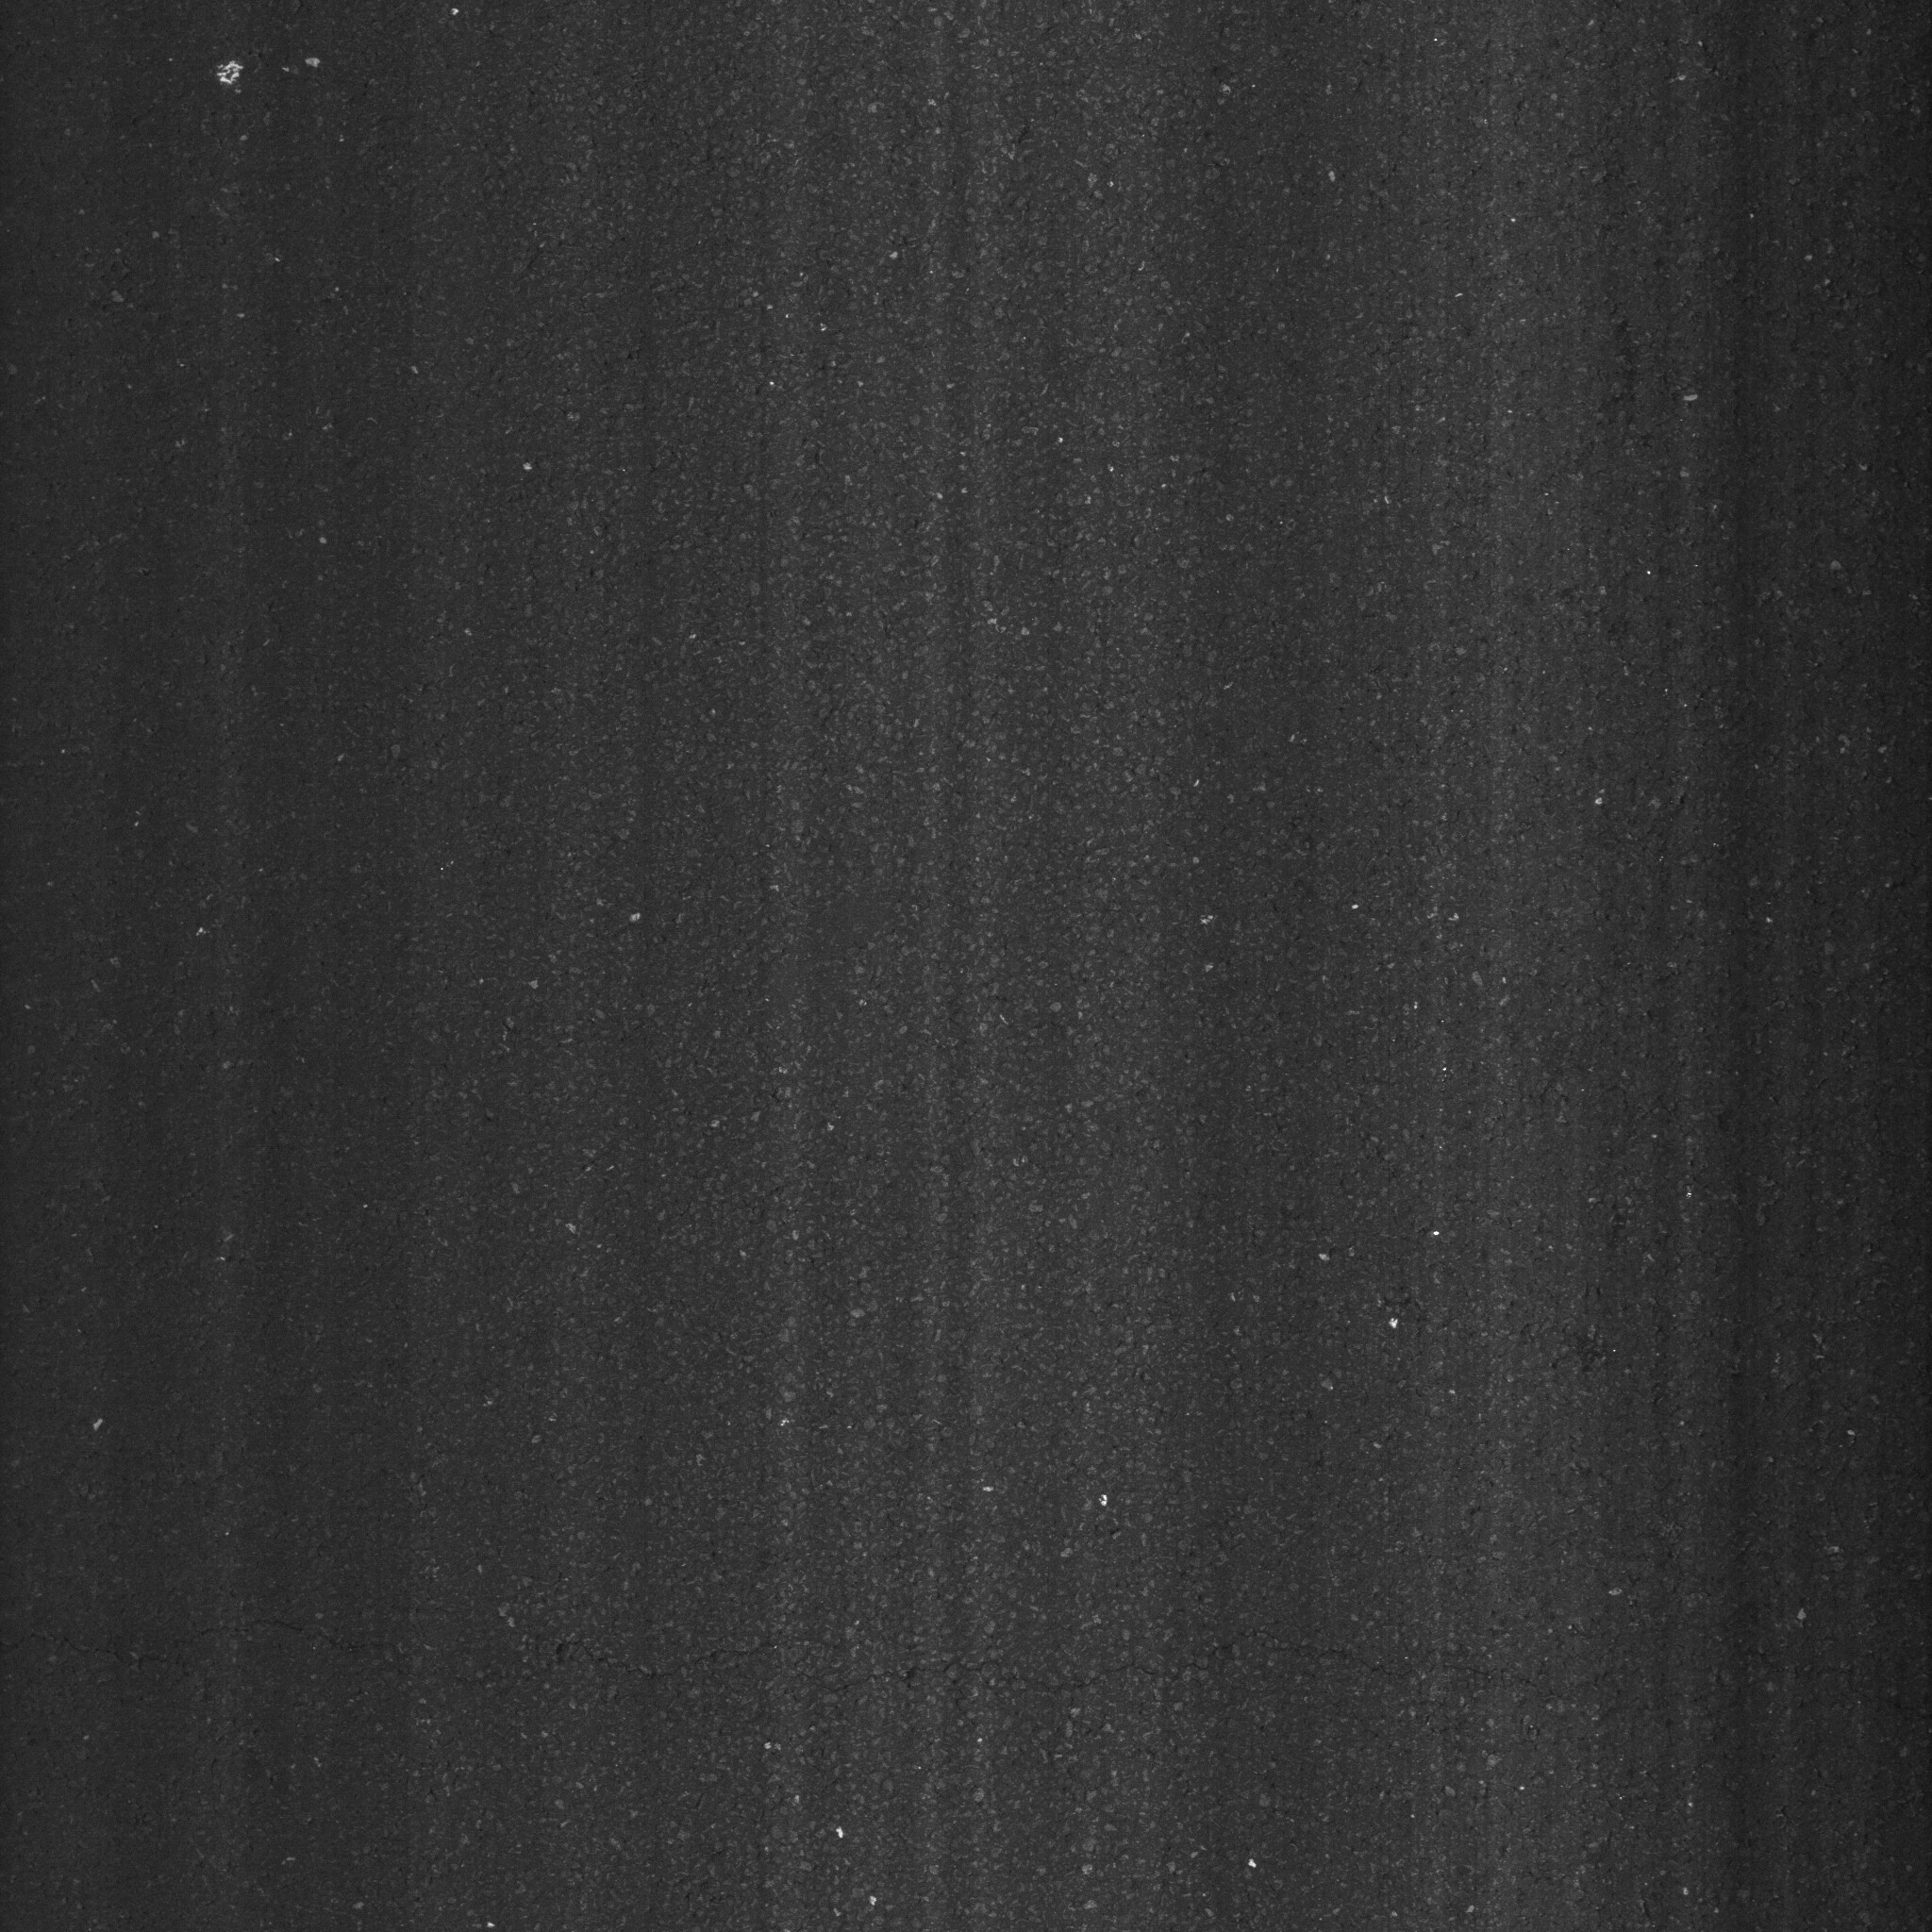transeverse: (9, 1578, 1920, 1734)
